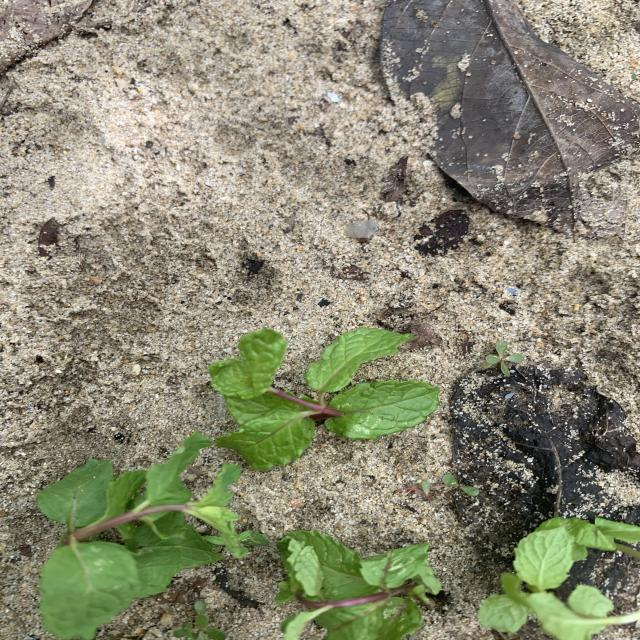crop: (36, 434, 238, 639), (209, 328, 439, 470), (479, 517, 640, 640), (276, 530, 436, 639)
weed: (206, 521, 268, 557), (396, 473, 479, 499), (173, 600, 226, 639), (485, 341, 523, 375)
